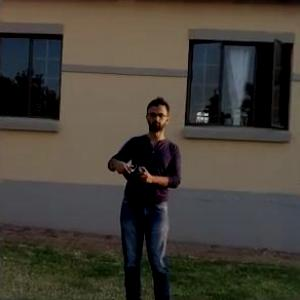follow: (100, 94, 186, 299)
